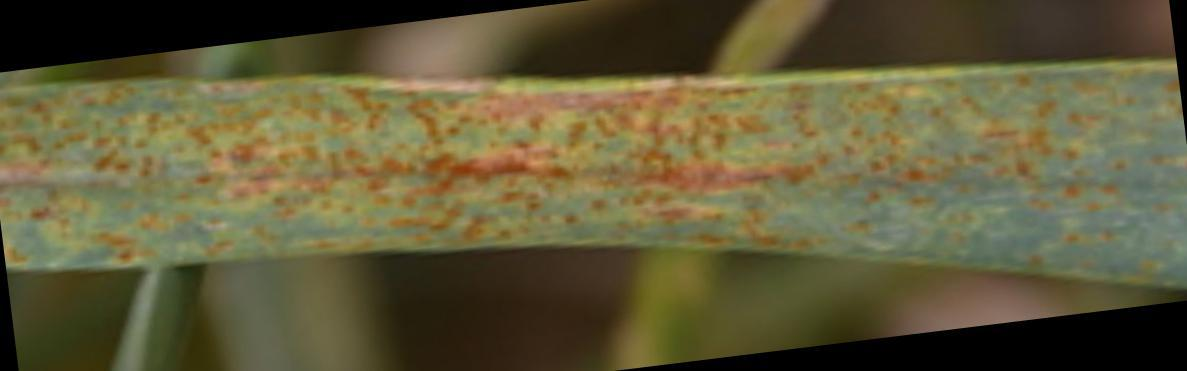Wheat: (597, 90, 1154, 225), (139, 96, 314, 248), (3, 97, 129, 260), (324, 96, 452, 236), (458, 96, 586, 234)
